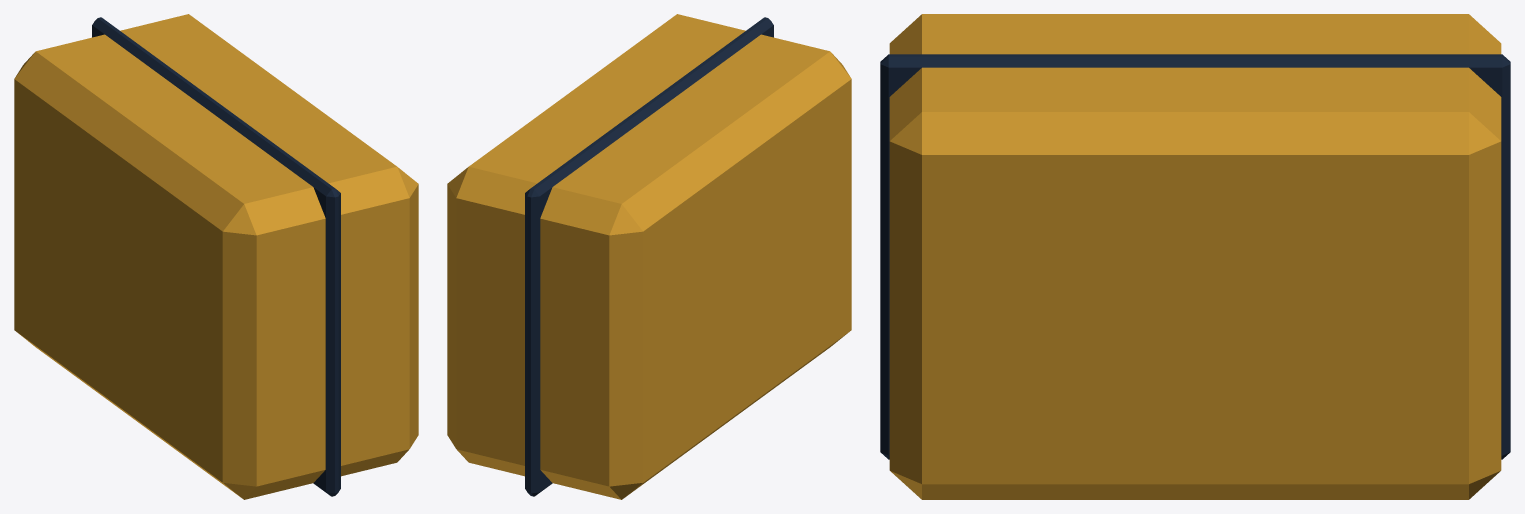
The model's file is joint_sleeve.glb.
The picture shows the model from 3 angles, left to right: view 1: azimuth 30°, elevation 25°; view 2: azimuth 150°, elevation 25°; view 3: azimuth 270°, elevation 25°; orthographic projection. The views are drawn at different scales.
Parts seen in each view (by area): view 1: joint_sleeve; view 2: joint_sleeve; view 3: joint_sleeve.
Part boxes in pixels (x1,y1,x2,y2): joint_sleeve: [14, 14, 418, 499]; joint_sleeve: [447, 14, 851, 499]; joint_sleeve: [880, 14, 1510, 499].
Bounding box in the file's own units: 0.32 × 0.48 × 0.68.
